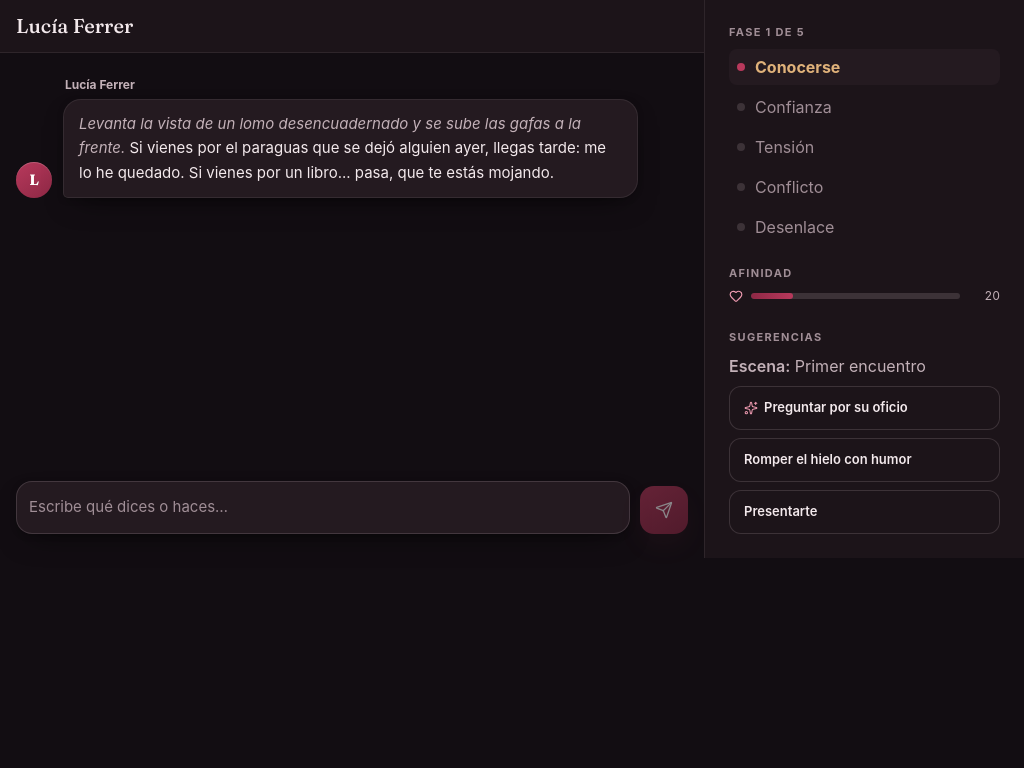
partida cerrada › si el cierre activa la restricción, avisa también con la fecha de fin
Type "#cerrar-restringir" into the text box named "Mensaje". click: (323, 507)
box: [29,488,617,526]
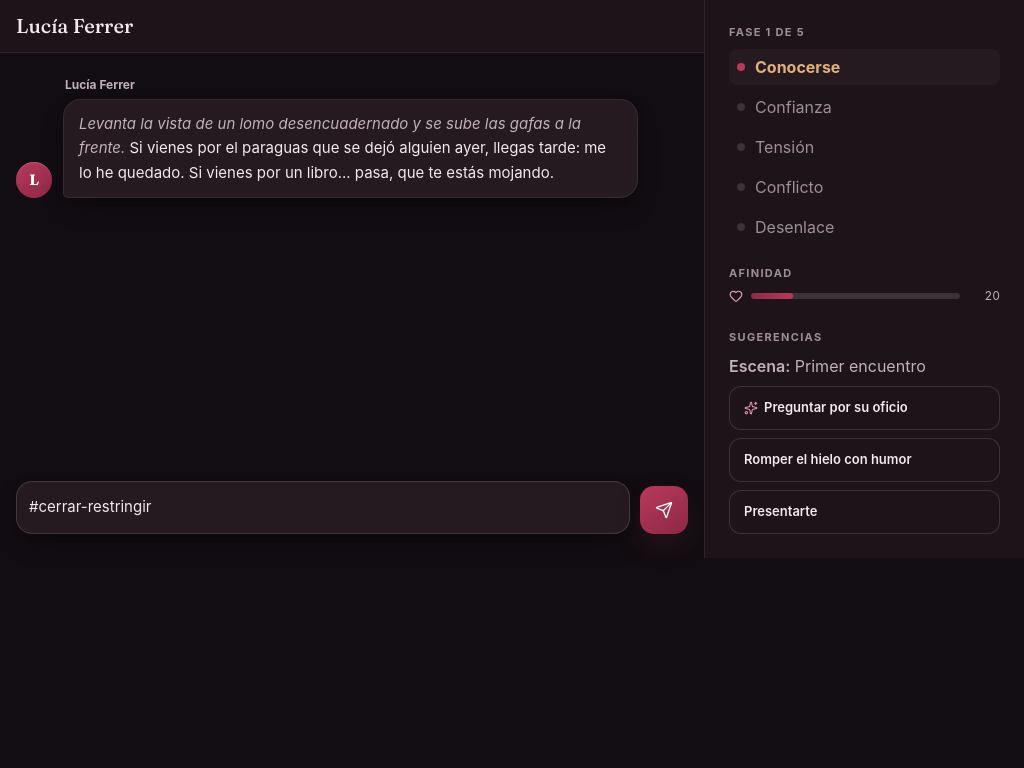
Click the button named "Enviar mensaje". click: (664, 510)
box: [640,486,688,534]
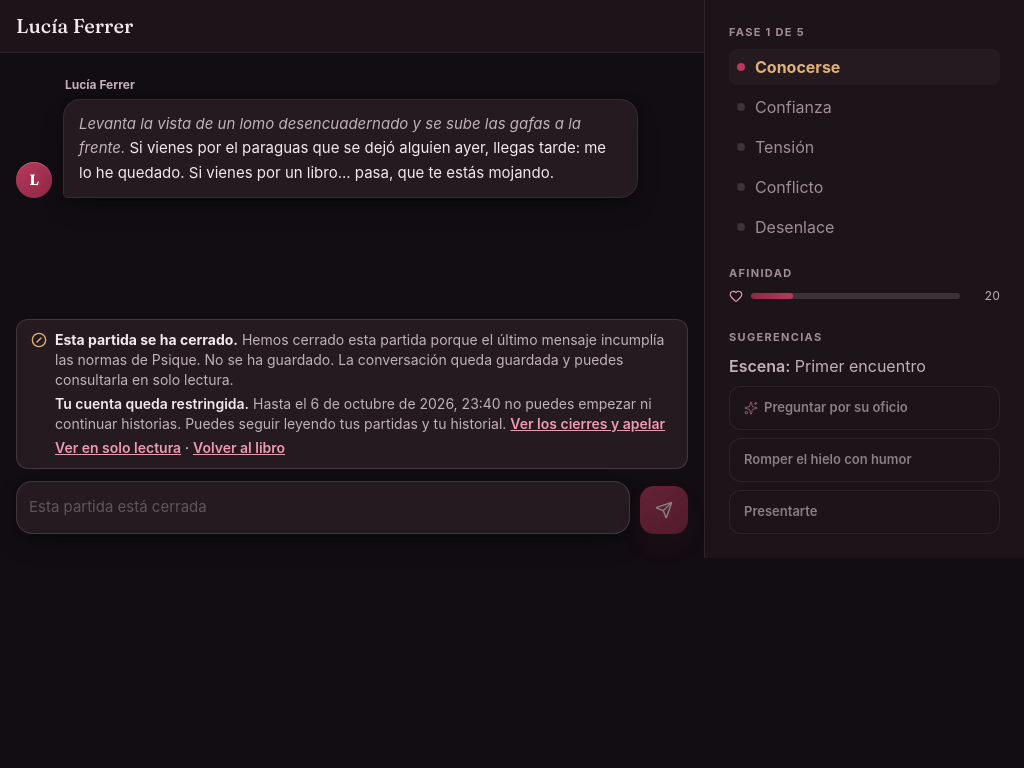
Check: the message shows "Tu cuenta queda restringida.", box [55,395,249,412]
